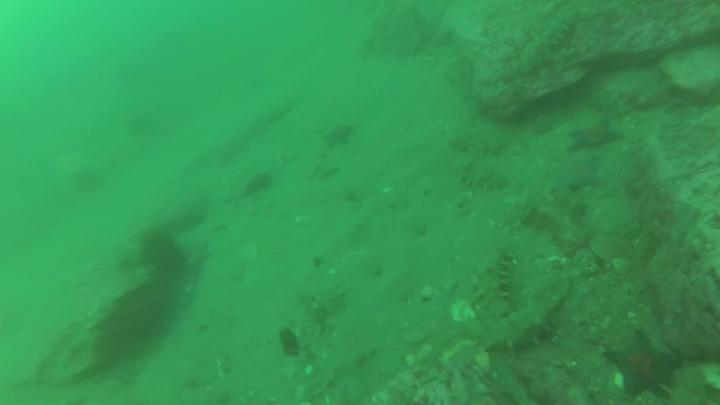echinus: (134, 231, 193, 281), (68, 167, 105, 196)
holothurian: (480, 289, 571, 354), (512, 1, 582, 78), (477, 247, 520, 321), (445, 157, 511, 193), (445, 132, 511, 160)
starfish: (604, 325, 685, 405), (567, 115, 632, 155), (564, 154, 616, 194), (322, 124, 357, 151)
